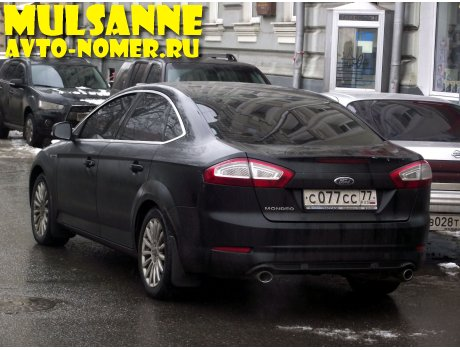car license plate: (301, 187, 379, 210), (428, 212, 460, 230)
